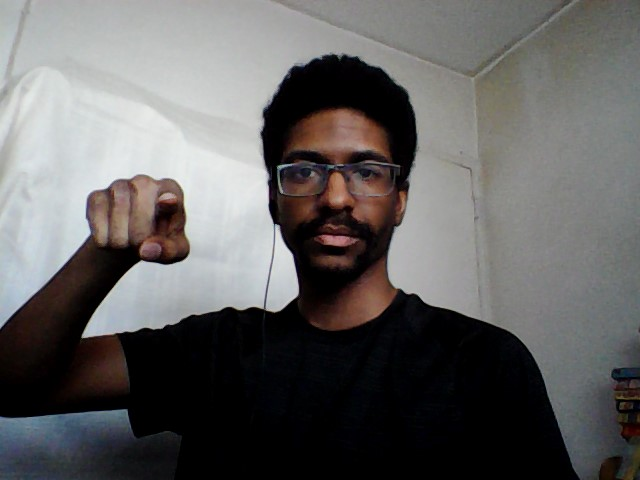z: (83, 170, 195, 268)
